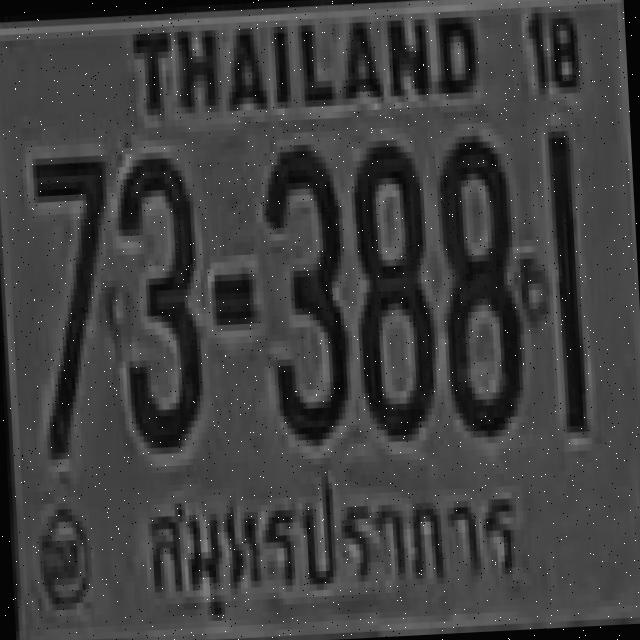1: (546, 128, 586, 430)
3: (261, 136, 352, 442), (112, 151, 203, 450)
7: (28, 150, 116, 453)
8: (434, 128, 522, 432), (348, 132, 436, 436)
SamutPrakan: (134, 448, 532, 634)
